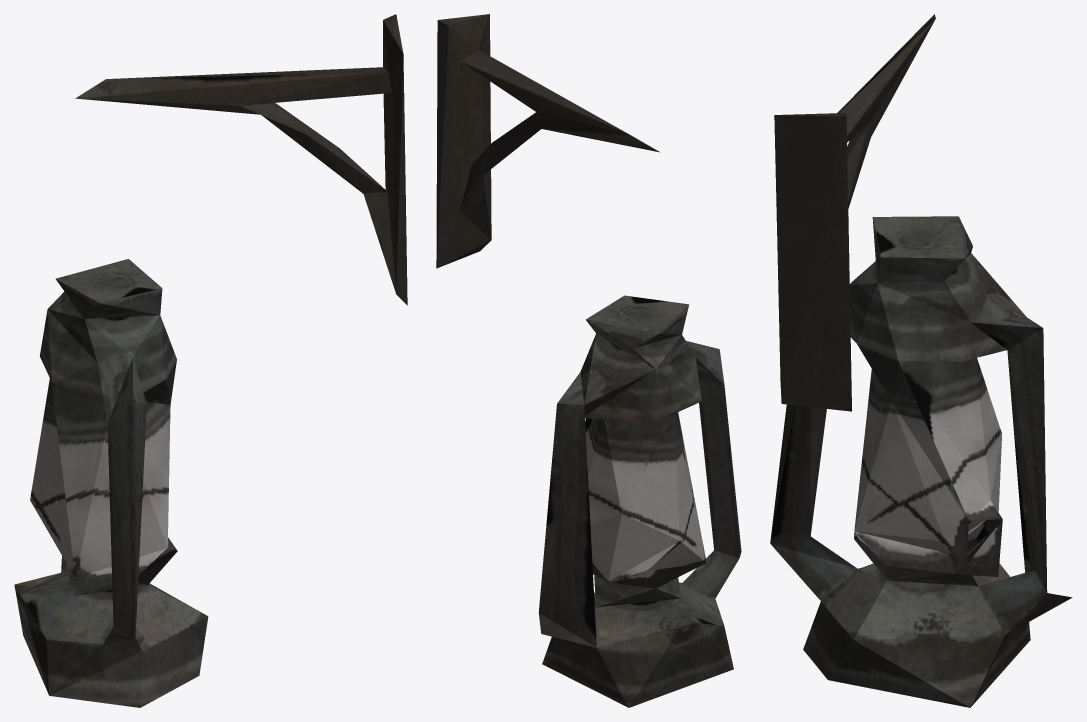
Rendered from hanging_lantern_lod1.glb.
The picture shows the model from 3 angles, left to right: view 1: azimuth 30°, elevation 25°; view 2: azimuth 150°, elevation 25°; view 3: azimuth 270°, elevation 25°; orthographic projection. The views are drawn at different scales.
Visible parts, largest first — view 1: geometry_0; view 2: geometry_0; view 3: geometry_0.
Boxes of the visible parts, box(x1,y1,x2,y2) form: geometry_0: box(14, 14, 407, 707); geometry_0: box(436, 14, 741, 707); geometry_0: box(770, 14, 1072, 707).
Size of the model in its own units: 0.3851 by 0.6767 by 0.2716.
1 material, 1 textured.
